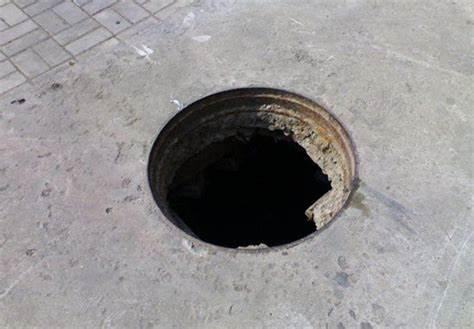wellcover: (128, 73, 372, 256)
